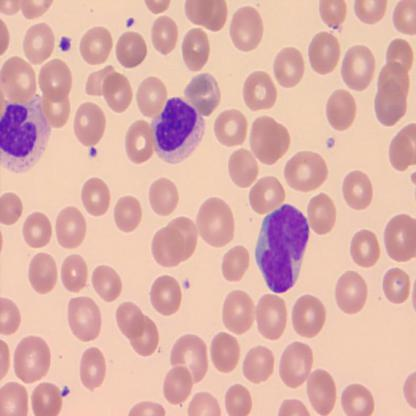Blast: (252, 201, 311, 296), (149, 92, 208, 167)
